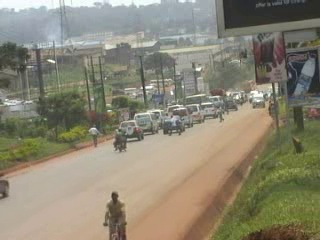Car: (170, 105, 196, 131), (117, 118, 145, 142), (160, 111, 186, 136), (184, 100, 206, 124), (200, 100, 219, 121), (0, 168, 10, 199), (220, 96, 237, 112)
Motorcycle: (112, 125, 129, 152)
